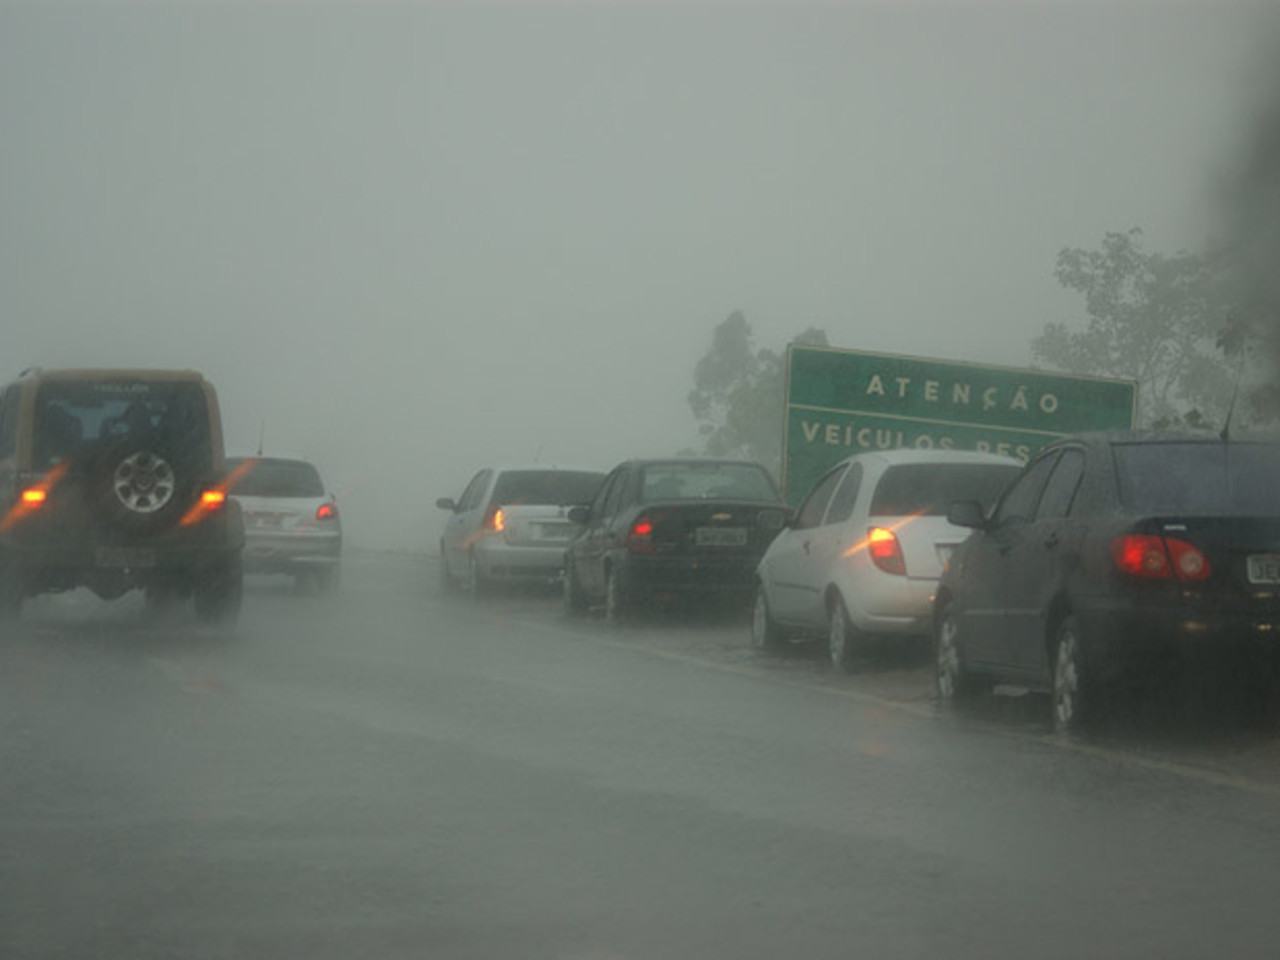car: (923, 427, 1279, 735), (3, 365, 246, 628), (744, 450, 1014, 668), (554, 458, 785, 618), (433, 463, 603, 594), (203, 454, 343, 596)
